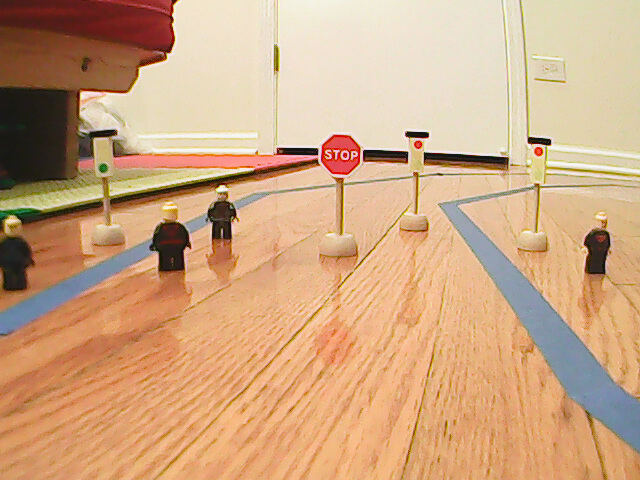Green Traffic Light: (89, 126, 119, 178)
Person: (150, 201, 194, 272), (1, 215, 34, 296), (585, 210, 615, 277), (205, 185, 239, 242)
Red Traffic Light: (524, 136, 553, 188), (404, 131, 432, 174)
Stop Sign: (320, 132, 365, 179)
